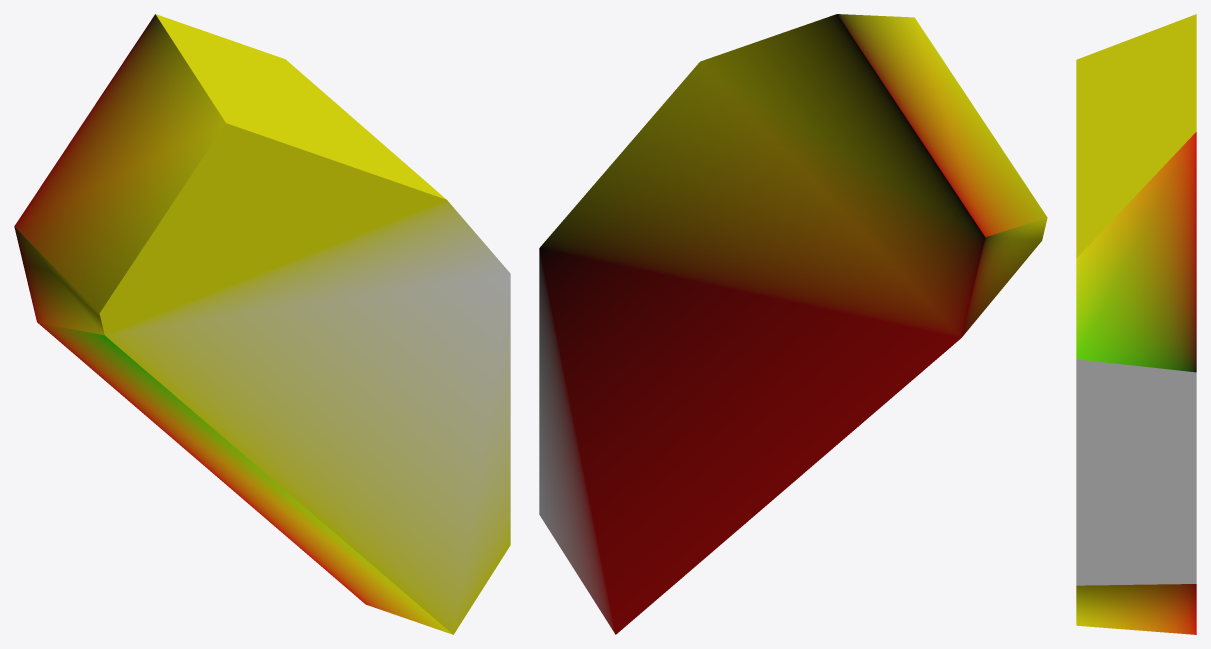
The model's file is Part_3_broken wall_09.fbx.
3 renders of one model, left to right at view 1: azimuth 30°, elevation 25°; view 2: azimuth 150°, elevation 25°; view 3: azimuth 270°, elevation 25°, orthographic. The views are drawn at different scales.
Visible parts, largest first — view 1: Part_3_broken wall_09; view 2: Part_3_broken wall_09; view 3: Part_3_broken wall_09.
Part boxes in pixels (box(x1,y1,x2,y2)): Part_3_broken wall_09: box(14, 14, 510, 634); Part_3_broken wall_09: box(539, 14, 1047, 634); Part_3_broken wall_09: box(1076, 14, 1196, 634).
Size of the model in its own units: 7.09 by 10.25 by 2.09.
